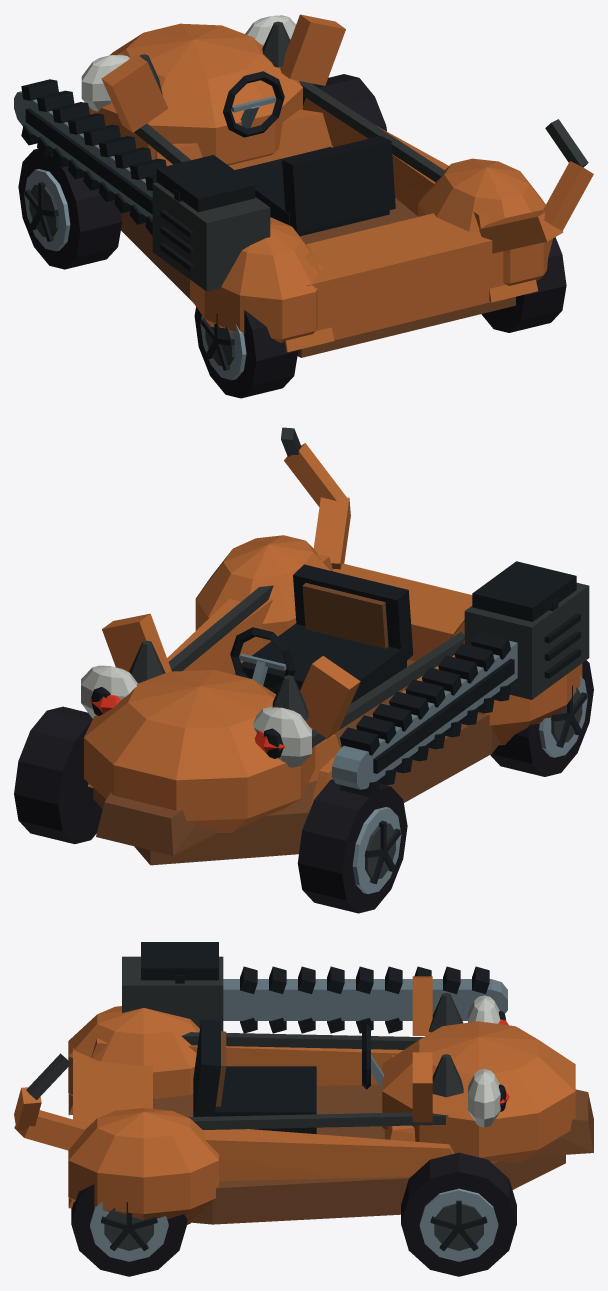
File: kart.glb
3 renders of one model, top to bottom at view 1: azimuth 30°, elevation 25°; view 2: azimuth 150°, elevation 25°; view 3: azimuth 270°, elevation 25°, orthographic. The views are drawn at different scales.
Parts seen in each view (by area): view 1: identity-beast-beast-sculpted-prow-and-haunches, identity-beast-motif-chainsaw, identity-beast-driver-cockpit, wheel-front-left, wheel-rear-left, identity-beast-motif-tail, wheel-rear-right, identity-beast-motif-eyes, wheel-front-right; view 2: identity-beast-beast-sculpted-prow-and-haunches, identity-beast-motif-chainsaw, identity-beast-driver-cockpit, wheel-front-left, wheel-front-right, wheel-rear-left, identity-beast-motif-eyes, identity-beast-motif-tail; view 3: identity-beast-beast-sculpted-prow-and-haunches, identity-beast-motif-chainsaw, wheel-front-right, identity-beast-driver-cockpit, wheel-rear-right, identity-beast-motif-tail, identity-beast-motif-eyes.
Boxes of the visible parts, <box> form: identity-beast-beast-sculpted-prow-and-haunches: <box>84,14,552,357</box>; identity-beast-motif-chainsaw: <box>14,79,270,291</box>; identity-beast-driver-cockpit: <box>223,71,395,236</box>; wheel-front-left: <box>18,148,122,269</box>; wheel-rear-left: <box>194,307,298,398</box>; identity-beast-motif-tail: <box>479,119,593,253</box>; wheel-rear-right: <box>481,237,566,332</box>; identity-beast-motif-eyes: <box>81,15,296,111</box>; wheel-front-right: <box>303,74,386,131</box>; identity-beast-beast-sculpted-prow-and-haunches: <box>84,535,582,865</box>; identity-beast-motif-chainsaw: <box>332,561,589,797</box>; identity-beast-driver-cockpit: <box>230,564,413,703</box>; wheel-front-left: <box>297,779,407,913</box>; wheel-front-right: <box>14,706,102,844</box>; wheel-rear-left: <box>490,660,593,776</box>; identity-beast-motif-eyes: <box>81,665,311,767</box>; identity-beast-motif-tail: <box>281,427,350,569</box>; identity-beast-beast-sculpted-prow-and-haunches: <box>68,976,593,1224</box>; identity-beast-motif-chainsaw: <box>122,942,507,1033</box>; wheel-front-right: <box>401,1152,516,1276</box>; identity-beast-driver-cockpit: <box>193,1019,383,1134</box>; wheel-rear-right: <box>71,1184,187,1276</box>; identity-beast-motif-tail: <box>14,1053,89,1150</box>; identity-beast-motif-eyes: <box>468,995,506,1127</box>.
Bounding box in the file's own units: 2.09 × 1.3 × 3.2.
